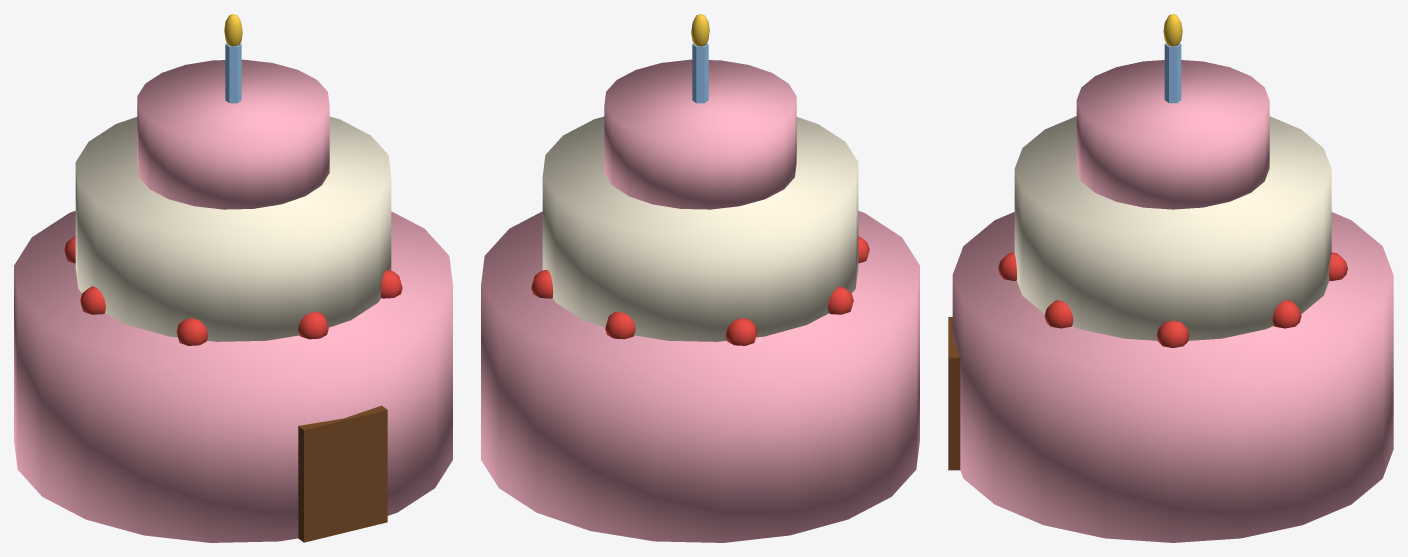
File: b_cake.glb
The picture shows the model from 3 angles, left to right: view 1: azimuth 30°, elevation 25°; view 2: azimuth 150°, elevation 25°; view 3: azimuth 270°, elevation 25°; orthographic projection.
Parts seen in each view (by area): view 1: Layer1, Layer2, Layer3, Door, Candle, Cherry.005, Cherry.006, Cherry.004; view 2: Layer1, Layer2, Layer3, Candle, Cherry.003, Cherry.002, Cherry.004; view 3: Layer1, Layer2, Layer3, Door, Candle, Cherry, Cherry.007, Cherry.001.
Part boxes in pixels (bbox=[...]): Layer1: bbox=[14, 211, 452, 542]; Layer2: bbox=[75, 116, 391, 341]; Layer3: bbox=[137, 59, 329, 209]; Door: bbox=[298, 405, 387, 542]; Candle: bbox=[225, 43, 241, 103]; Cherry.005: bbox=[176, 318, 208, 345]; Cherry.006: bbox=[298, 312, 328, 339]; Cherry.004: bbox=[80, 286, 105, 314]; Layer1: bbox=[481, 211, 919, 542]; Layer2: bbox=[542, 116, 858, 341]; Layer3: bbox=[604, 59, 796, 209]; Candle: bbox=[692, 43, 708, 103]; Cherry.003: bbox=[725, 318, 757, 345]; Cherry.002: bbox=[605, 312, 635, 339]; Cherry.004: bbox=[828, 286, 853, 314]; Layer1: bbox=[952, 212, 1393, 542]; Layer2: bbox=[1014, 116, 1331, 340]; Layer3: bbox=[1076, 60, 1269, 209]; Door: bbox=[948, 317, 960, 470]; Candle: bbox=[1164, 43, 1181, 103]; Cherry: bbox=[1156, 320, 1189, 347]; Cherry.007: bbox=[1044, 300, 1073, 328]; Cherry.001: bbox=[1272, 300, 1301, 328].
Bounding box in the file's own units: 3.2 × 3.49 × 3.23.
